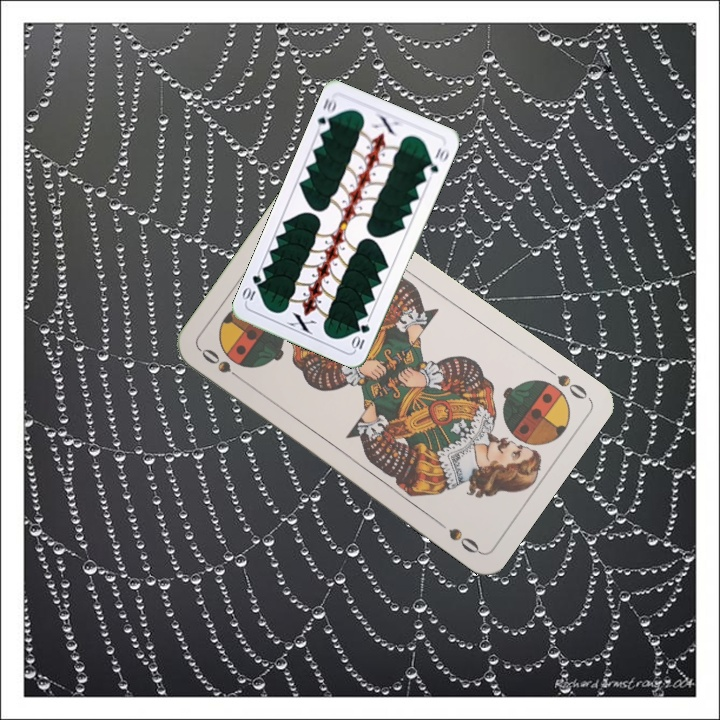G10: (313, 94, 339, 135), (348, 320, 373, 353)
SO: (197, 344, 248, 386), (540, 362, 591, 402)
